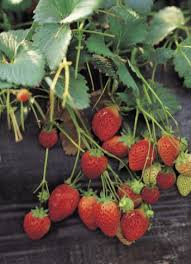ripe: (47, 180, 81, 222), (92, 103, 124, 142), (120, 208, 151, 241), (78, 148, 108, 181), (21, 208, 51, 241), (98, 198, 121, 240), (77, 193, 101, 231), (127, 135, 153, 168), (36, 123, 59, 149), (140, 184, 162, 206), (156, 168, 173, 192)
unripe: (155, 132, 180, 167), (100, 134, 130, 158), (172, 146, 188, 177), (139, 163, 158, 187), (116, 192, 133, 216), (175, 175, 189, 199), (17, 88, 31, 101)
